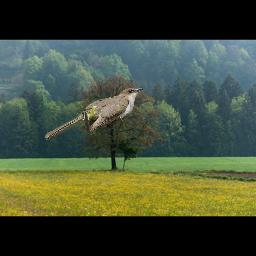Cuckoo: (44, 87, 143, 140)
